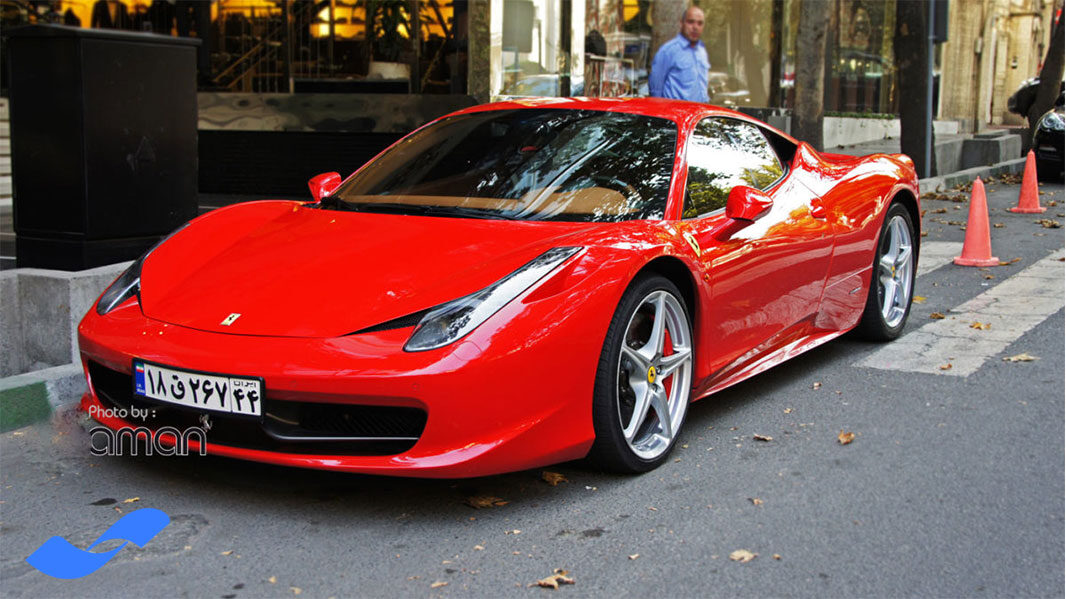car: (131, 359, 259, 418)
